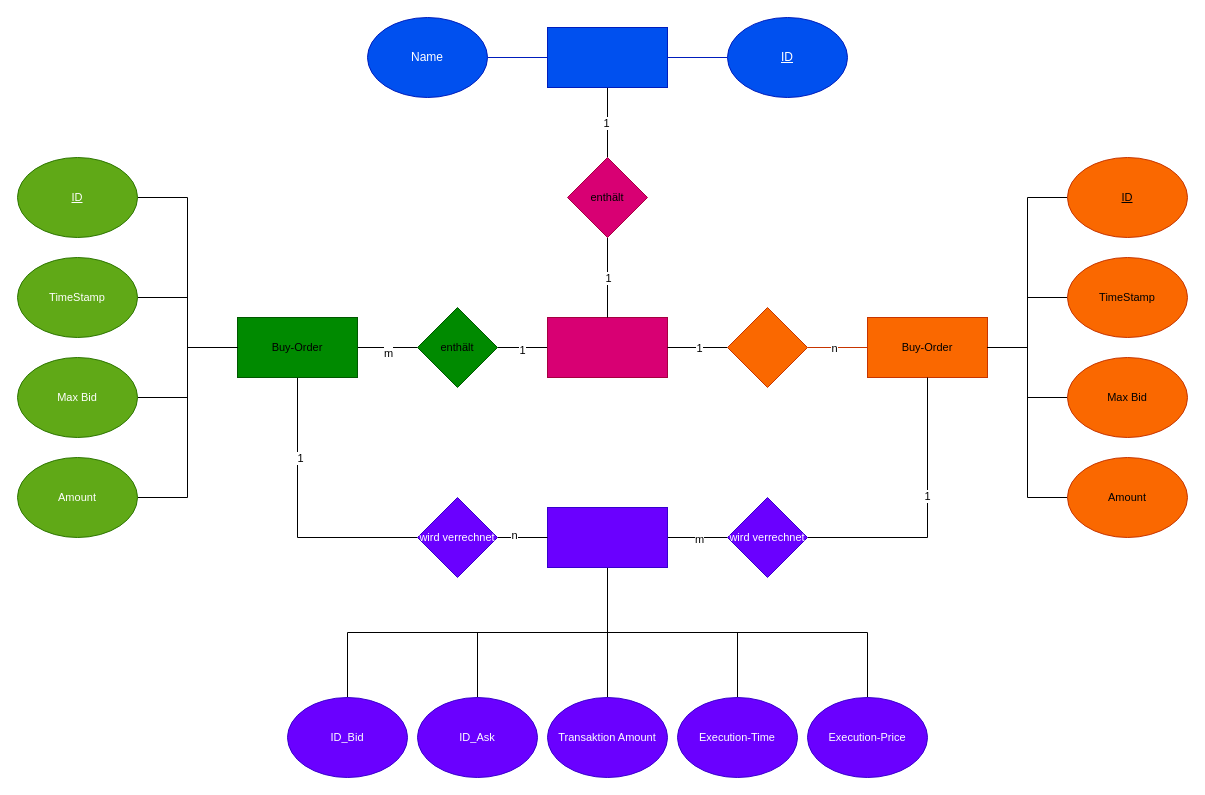
Some shapes in this 1205 by 795 pixel diagram are drawn without their labels. Here are the shapes that lost their labels. From the top down, the centre of each, then its label:
At (607,57): "Simulation".
At (607,347): "Orderbook".
At (767,347): "enthäl t".
At (607,537): "Transaktionen".
